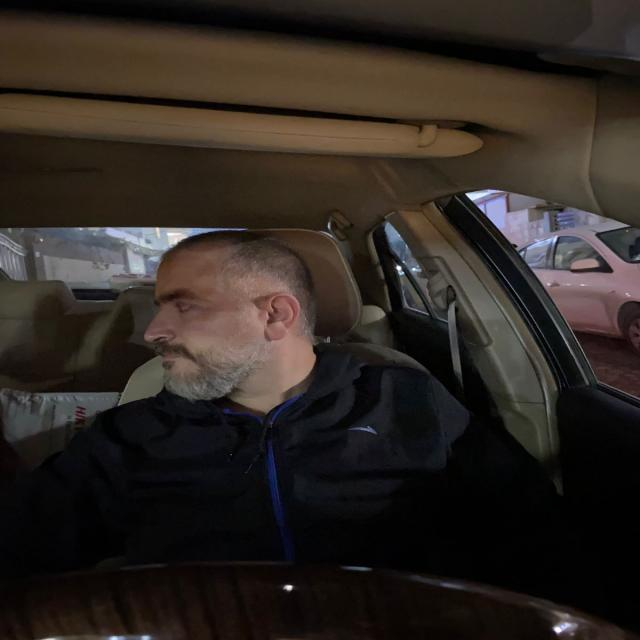LeftRight: (135, 231, 328, 410)
